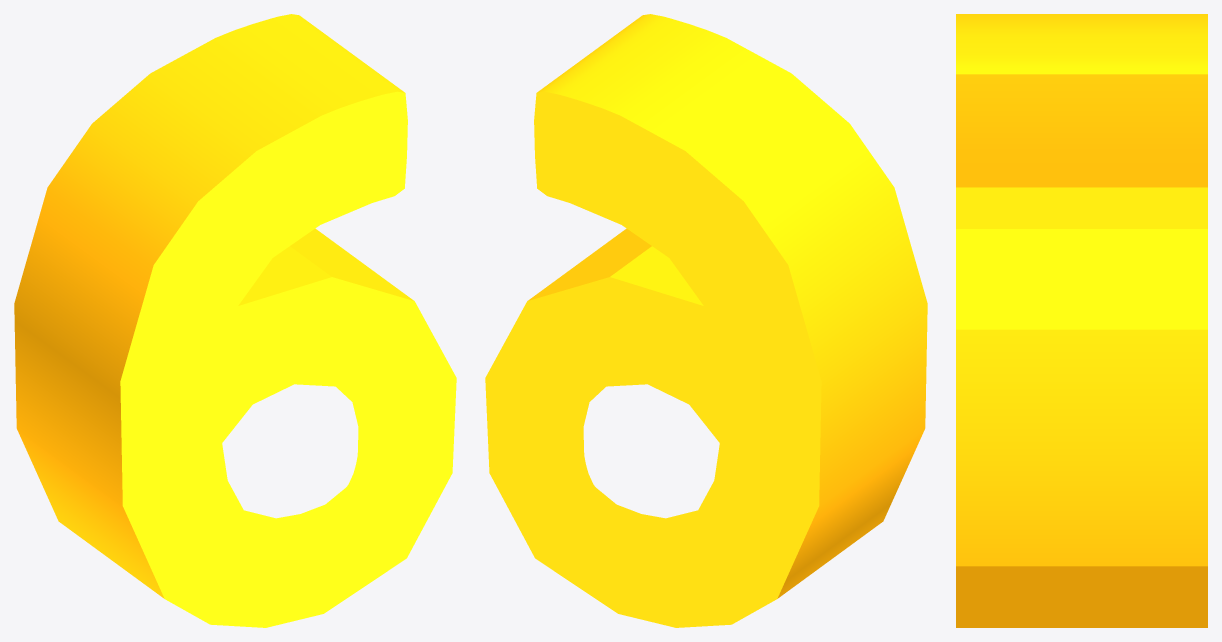
The model's file is 73ebea95-6e77-45bd-905a-f6a00b6ba600.glb.
3 renders of one model, left to right at view 1: azimuth 30°, elevation 25°; view 2: azimuth 150°, elevation 25°; view 3: azimuth 270°, elevation 25°, orthographic. The views are drawn at different scales.
Visible parts, largest first — view 1: 6_Zyzol_Yellow; view 2: 6_Zyzol_Yellow; view 3: 6_Zyzol_Yellow.
Part boxes in pixels (<box>): 6_Zyzol_Yellow: <box>14,14,456,627</box>; 6_Zyzol_Yellow: <box>485,14,927,627</box>; 6_Zyzol_Yellow: <box>956,14,1207,627</box>.
Size of what is drawn, in the model's own units: 0.0823 by 0.1181 by 0.045.
Materials: 2 (2 with a texture image).
